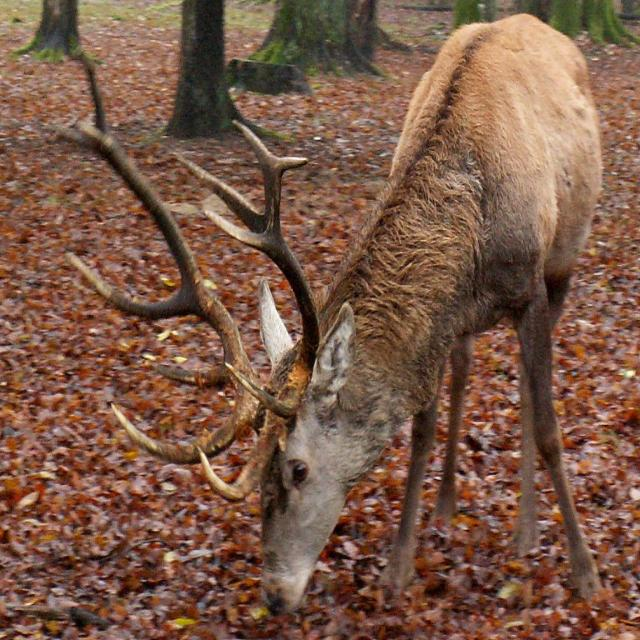Deer: (45, 12, 603, 616)
